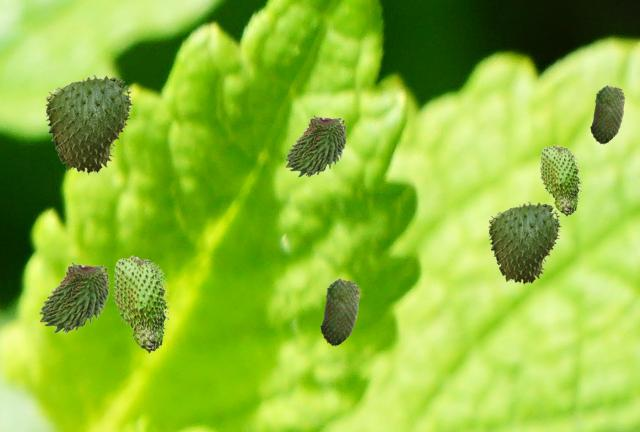guyabano: (45, 74, 133, 175), (488, 201, 561, 285), (112, 255, 169, 352), (38, 261, 109, 332), (284, 114, 346, 176), (539, 144, 581, 215), (320, 278, 359, 345), (590, 85, 624, 143)
